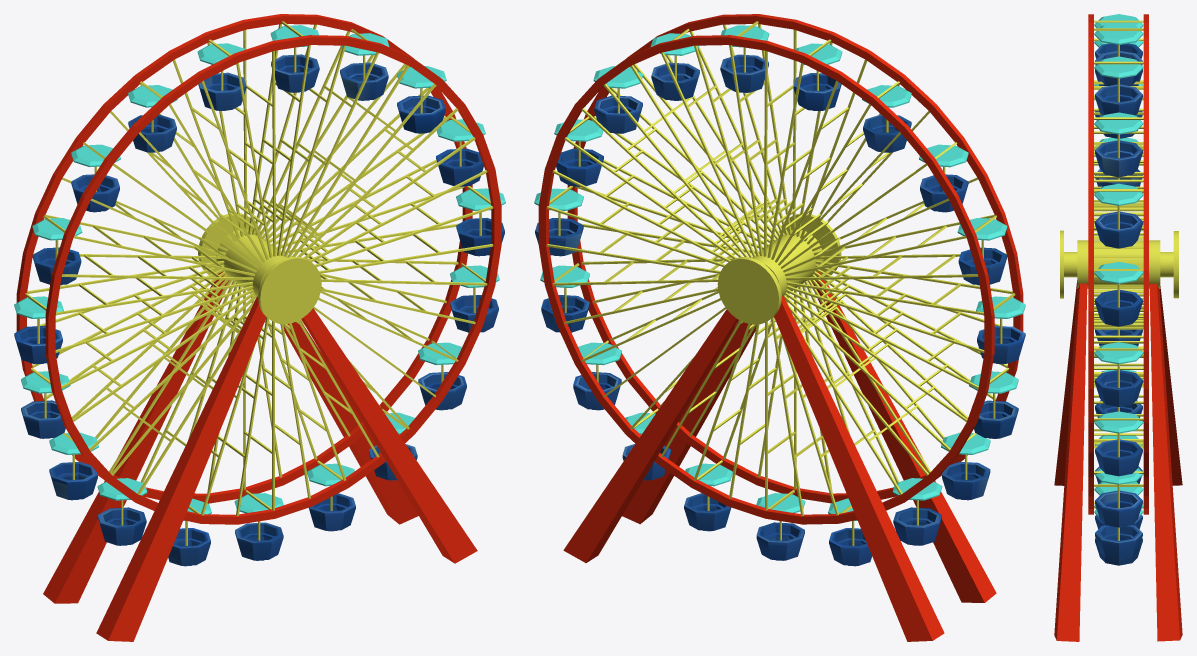
The model's file is funfair-3.fbx.
3 renders of one model, left to right at view 1: azimuth 30°, elevation 25°; view 2: azimuth 150°, elevation 25°; view 3: azimuth 270°, elevation 25°, orthographic. The views are drawn at different scales.
Visible parts, largest first — view 1: funfair_m4, funfair_m4.001, funfair_m4.006, funfair_m4.005, funfair_m4.002, funfair_m4.015, funfair_m4.003, funfair_m4.016, funfair_m4.007, funfair_m4.012, funfair_m4.013, funfair_m4.014 (+9 smaller); view 2: funfair_m4, funfair_m4.001, funfair_m4.006, funfair_m4.005, funfair_m4.002, funfair_m4.015, funfair_m4.003, funfair_m4.016, funfair_m4.007, funfair_m4.012, funfair_m4.013, funfair_m4.014 (+9 smaller); view 3: funfair_m4.001, funfair_m4, funfair_m4.017, funfair_m4.018, funfair_m4.014, funfair_m4.015, funfair_m4.016, funfair_m4.013, funfair_m4.019, funfair_m4.020, funfair_m4.012, funfair_m4.011 (+7 smaller).
Part boxes in pixels (x1,y1,x2,y2): funfair_m4: [16, 14, 501, 524]; funfair_m4.001: [43, 213, 477, 641]; funfair_m4.006: [49, 432, 98, 500]; funfair_m4.005: [97, 478, 147, 545]; funfair_m4.002: [234, 493, 283, 560]; funfair_m4.015: [397, 66, 446, 133]; funfair_m4.003: [307, 463, 355, 531]; funfair_m4.016: [436, 119, 485, 186]; funfair_m4.007: [21, 371, 70, 438]; funfair_m4.012: [197, 43, 246, 110]; funfair_m4.013: [270, 25, 319, 92]; funfair_m4.014: [340, 33, 389, 100]; funfair_m4: [538, 14, 1023, 524]; funfair_m4.001: [563, 213, 996, 641]; funfair_m4.006: [941, 432, 990, 500]; funfair_m4.005: [892, 478, 942, 545]; funfair_m4.002: [756, 493, 805, 560]; funfair_m4.015: [593, 66, 643, 133]; funfair_m4.003: [684, 463, 732, 531]; funfair_m4.016: [554, 119, 603, 186]; funfair_m4.007: [969, 371, 1018, 438]; funfair_m4.012: [793, 43, 842, 111]; funfair_m4.013: [720, 25, 769, 92]; funfair_m4.014: [650, 33, 699, 100]; funfair_m4.001: [1054, 230, 1182, 641]; funfair_m4: [1088, 14, 1148, 514]; funfair_m4.017: [1094, 342, 1143, 406]; funfair_m4.018: [1094, 411, 1143, 476]; funfair_m4.014: [1094, 112, 1143, 177]; funfair_m4.015: [1094, 183, 1143, 248]; funfair_m4.016: [1094, 262, 1143, 326]; funfair_m4.013: [1094, 56, 1143, 115]; funfair_m4.019: [1094, 468, 1143, 527]; funfair_m4.020: [1094, 505, 1143, 559]; funfair_m4.012: [1094, 23, 1143, 85]; funfair_m4.011: [1094, 14, 1143, 58].
Size of the model in its own units: 1713 by 1845 by 410.
4 materials, 1 textured.
